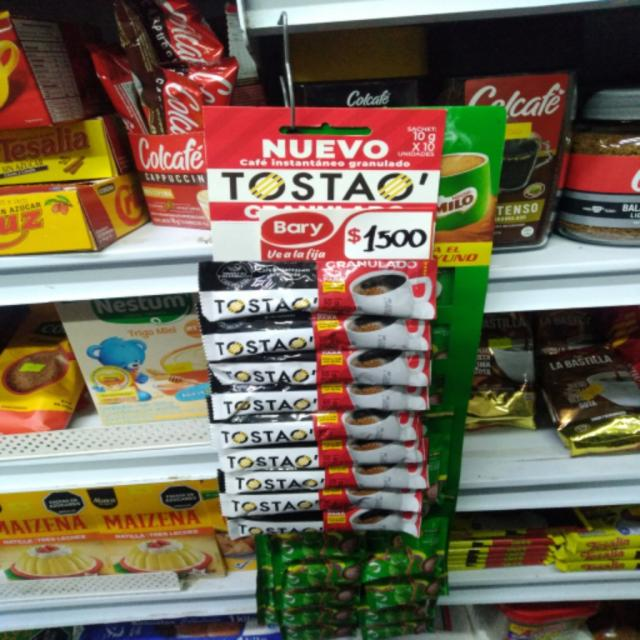Precio: (349, 212, 433, 258)
Sobre_cafe: (203, 260, 436, 319), (205, 353, 433, 389), (202, 323, 435, 355), (211, 391, 433, 418), (213, 418, 426, 446), (231, 511, 420, 540), (220, 493, 421, 517), (221, 447, 427, 469), (224, 472, 430, 490)
